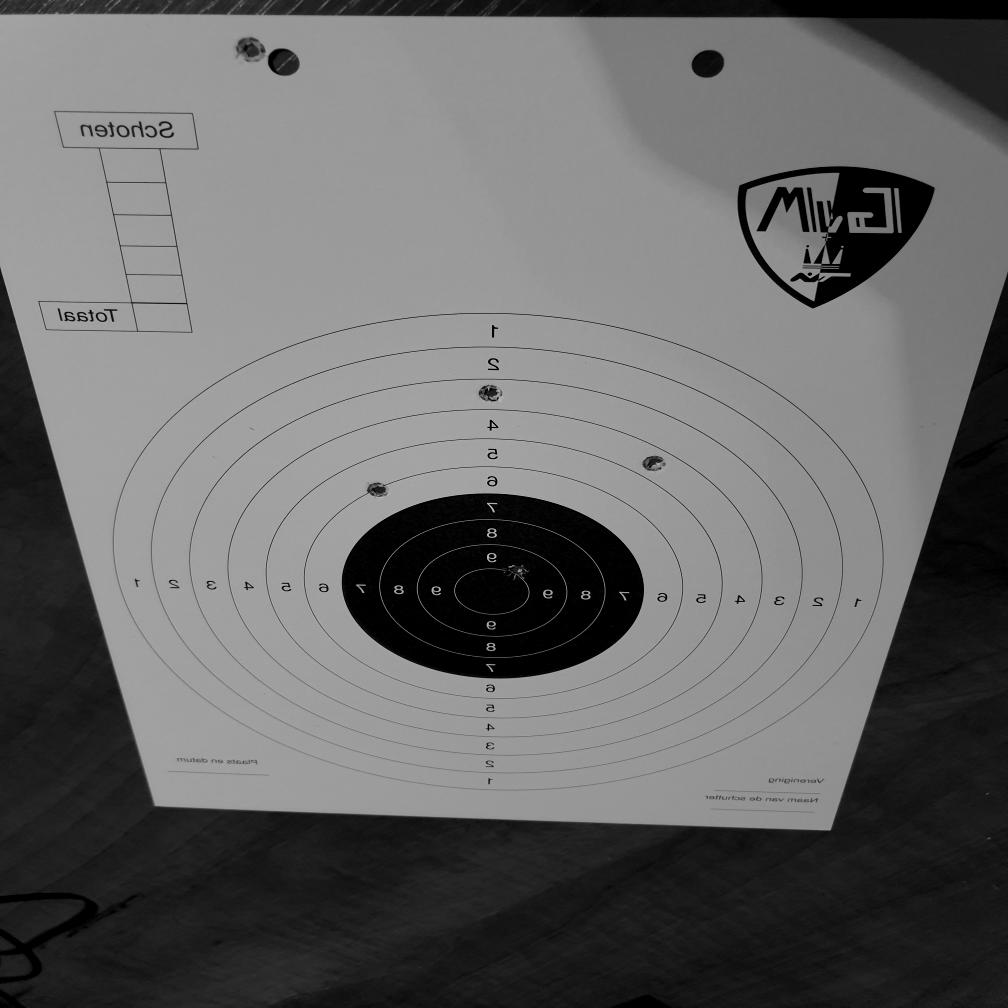0: (228, 36, 270, 62)
10: (497, 559, 528, 583)
3: (473, 380, 505, 406)
4: (637, 454, 670, 472)
6: (360, 476, 393, 500)
Target: (113, 311, 894, 793)
black_contour: (341, 493, 645, 680)
